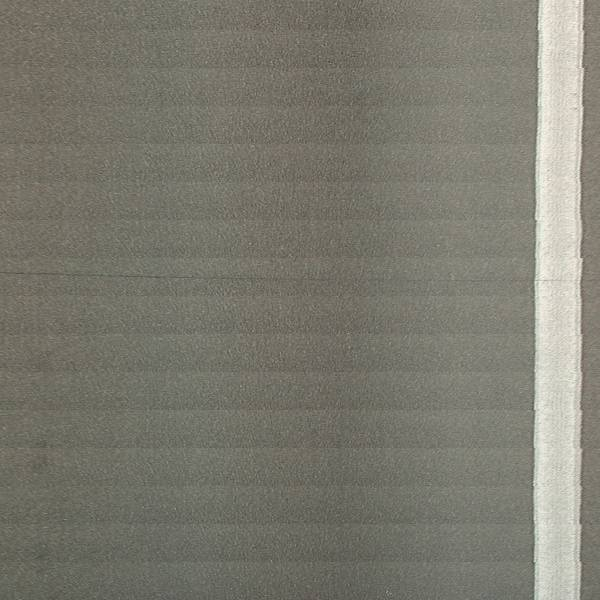road_damage: (5, 266, 518, 285)
